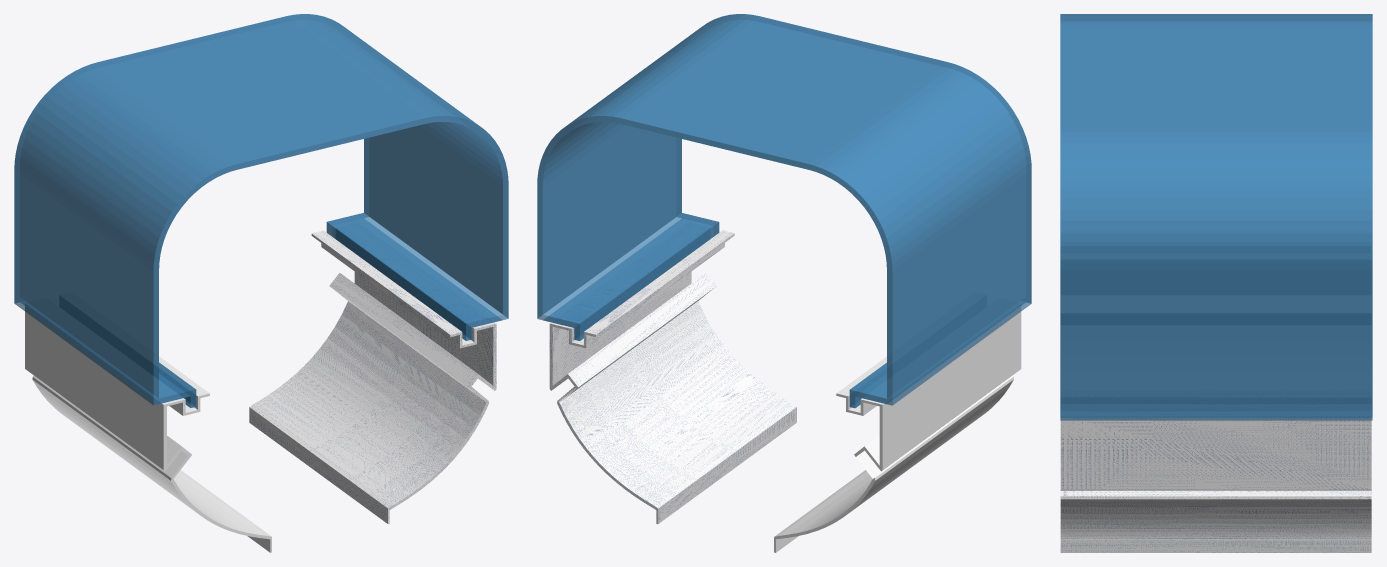
The model's file is 1_Module.fbx.
3 renders of one model, left to right at view 1: azimuth 30°, elevation 25°; view 2: azimuth 150°, elevation 25°; view 3: azimuth 270°, elevation 25°, orthographic. The views are drawn at different scales.
Parts seen in each view (by area): view 1: Group2, Group4, Group3, Group1; view 2: Group2, Group4, Group3, Group1; view 3: Group4, Group3, Group2.
Part boxes in pixels (x1=…): Group2: x1=14, y1=39, x2=330, y2=407; Group4: x1=192, y1=14, x2=508, y2=340; Group3: x1=249, y1=230, x2=496, y2=524; Group1: x1=25, y1=306, x2=271, y2=552; Group2: x1=715, y1=39, x2=1031, y2=408; Group4: x1=537, y1=14, x2=853, y2=340; Group3: x1=549, y1=230, x2=796, y2=523; Group1: x1=774, y1=306, x2=1021, y2=552; Group4: x1=1060, y1=75, x2=1372, y2=420; Group3: x1=1060, y1=417, x2=1371, y2=552; Group2: x1=1060, y1=14, x2=1372, y2=81.
Size of the model in its own units: 38.3 by 40.93 by 26.
